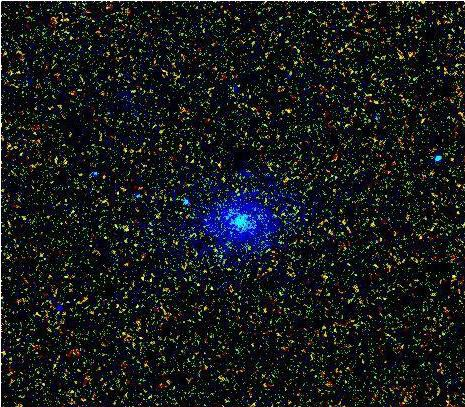star: (48, 143, 78, 173)
